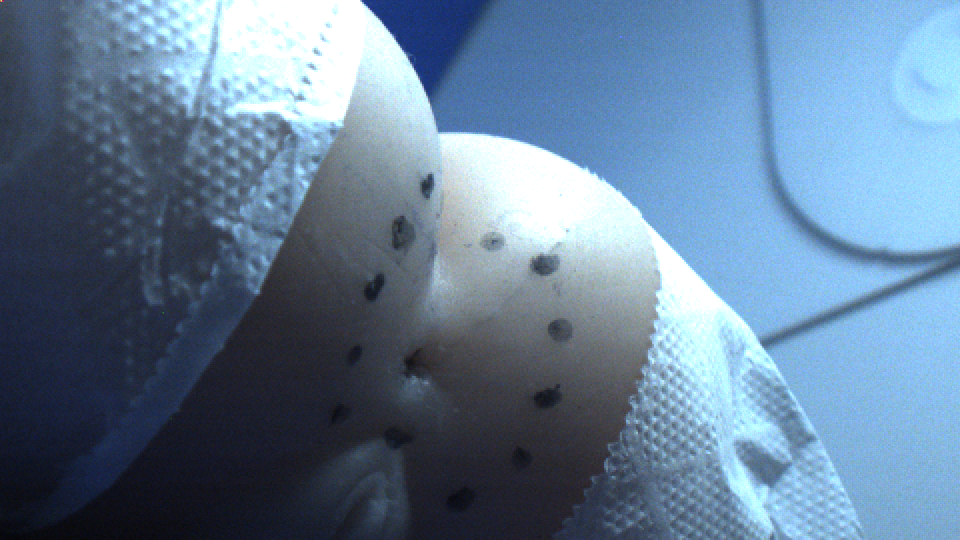asarp_marker: (528, 243, 561, 282), (360, 273, 397, 304), (386, 213, 421, 245), (545, 313, 581, 343), (527, 388, 570, 413), (479, 226, 507, 260), (446, 488, 484, 513), (382, 429, 418, 454), (323, 404, 360, 428), (415, 167, 441, 201), (508, 439, 536, 470), (347, 339, 369, 367)
